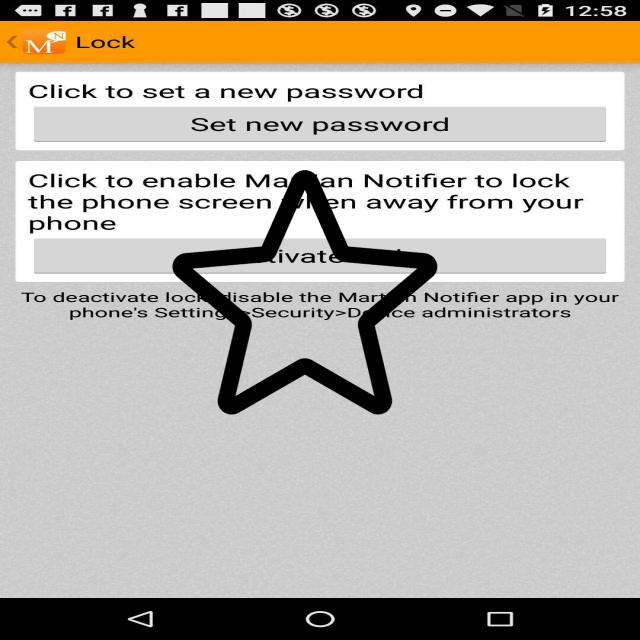forced continuity: (172, 164, 438, 420)
